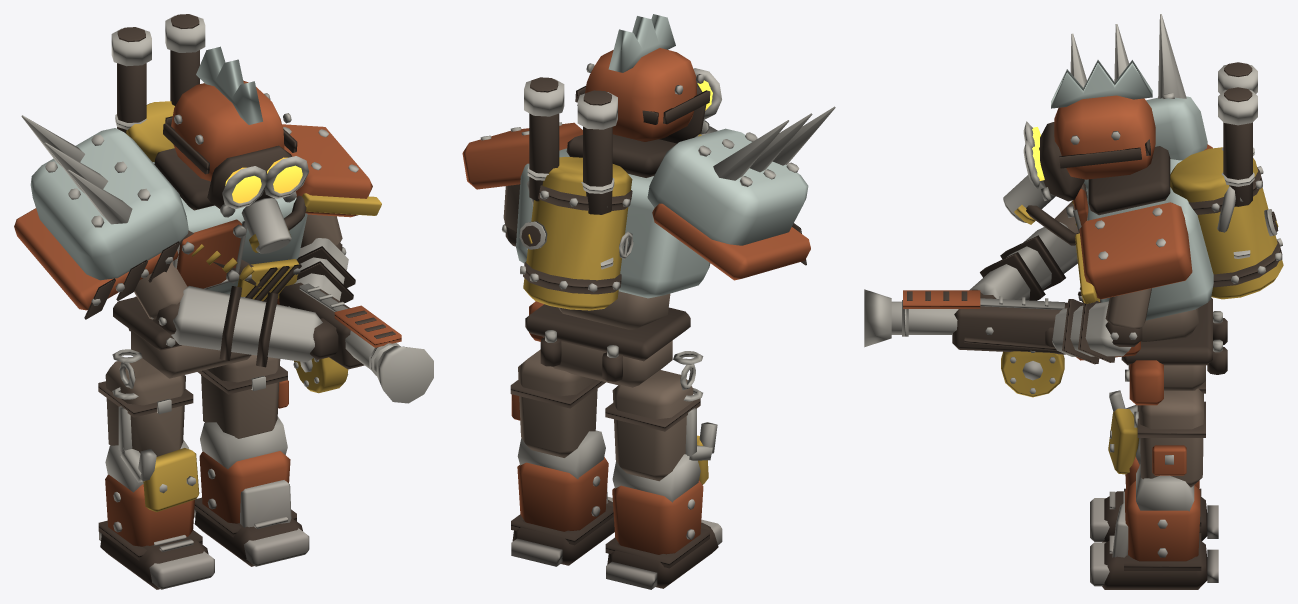
Rendered from scrapper.glb.
The picture shows the model from 3 angles, left to right: view 1: azimuth 30°, elevation 25°; view 2: azimuth 150°, elevation 25°; view 3: azimuth 270°, elevation 25°; orthographic projection. The views are drawn at different scales.
Visible parts, largest first — view 1: Steel_details.002, Undercarriage_details.002, Team_details, Helmet, Hazard_details, Suit_details.002, Suit_details, Suit_details.001, Steel_details.001, Shoulder_plate, Shin, Pauldron_rim (+10 smaller); view 2: Team_details, Undercarriage_details.002, Steel_details.002, Hazard_details, Helmet, Suit_details, Suit_details.001, Suit_details.002, Shin, Shin.001, Pauldron_rim, Undercarriage_details (+6 smaller); view 3: Undercarriage_details.002, Steel_details.002, Hazard_details, Team_details, Shoulder_plate, Helmet, Undercarriage_details.001, Suit_details.002, Shin.001, Suit_details.001, Steel_details.001, Knee.001 (+6 smaller).
Boxes of the visible parts, <box> form: Steel_details.002: <box>21,15,433,482</box>; Undercarriage_details.002: <box>84,14,395,369</box>; Team_details: <box>30,46,307,294</box>; Helmet: <box>171,80,284,181</box>; Hazard_details: <box>126,101,381,393</box>; Suit_details.002: <box>131,214,342,378</box>; Suit_details: <box>105,358,185,456</box>; Suit_details.001: <box>201,355,280,438</box>; Steel_details.001: <box>194,376,309,566</box>; Shoulder_plate: <box>282,124,372,217</box>; Shin: <box>105,474,194,546</box>; Pauldron_rim: <box>14,208,178,310</box>; Team_details: <box>516,14,808,298</box>; Undercarriage_details.002: <box>505,77,806,381</box>; Steel_details.002: <box>480,63,835,460</box>; Hazard_details: <box>523,134,701,310</box>; Helmet: <box>585,48,697,141</box>; Suit_details: <box>612,370,693,481</box>; Suit_details.001: <box>518,349,597,457</box>; Suit_details.002: <box>503,184,672,387</box>; Shin: <box>612,480,703,554</box>; Shin.001: <box>517,457,608,531</box>; Pauldron_rim: <box>652,203,810,280</box>; Undercarriage_details: <box>605,398,718,588</box>; Undercarriage_details.002: <box>907,62,1282,374</box>; Steel_details.002: <box>864,14,1282,415</box>; Hazard_details: <box>1001,147,1283,397</box>; Team_details: <box>1051,60,1213,320</box>; Shoulder_plate: <box>1079,202,1192,299</box>; Helmet: <box>1054,95,1155,179</box>; Undercarriage_details.001: <box>1102,401,1207,589</box>; Suit_details.002: <box>1054,201,1205,390</box>; Shin.001: <box>1125,481,1200,561</box>; Suit_details.001: <box>1139,388,1203,487</box>; Steel_details.001: <box>1090,411,1218,586</box>; Knee.001: <box>1136,464,1194,511</box>.
Size of the model in its own units: 1.56 by 2.39 by 1.84.
